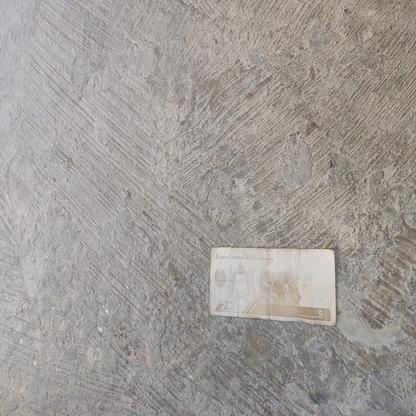five-back-vef: (210, 246, 335, 326)
